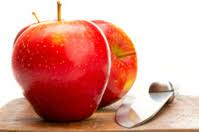apple: (17, 23, 108, 121), (85, 20, 138, 110)
